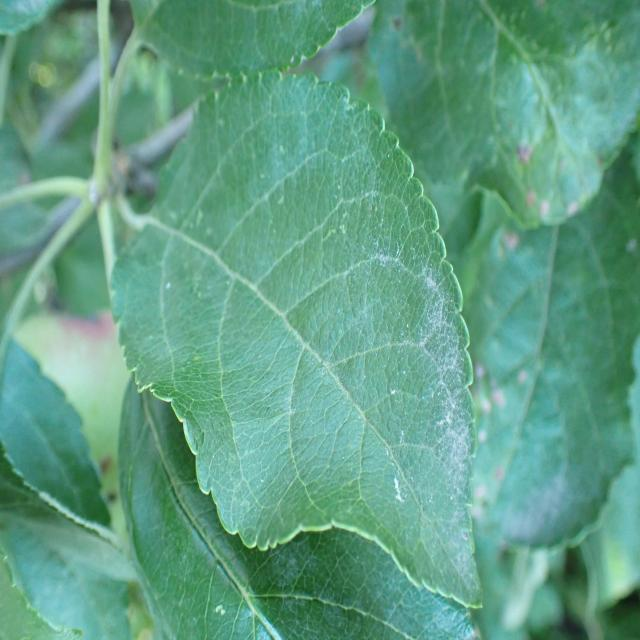Powdery_mildew: (216, 79, 492, 566)
